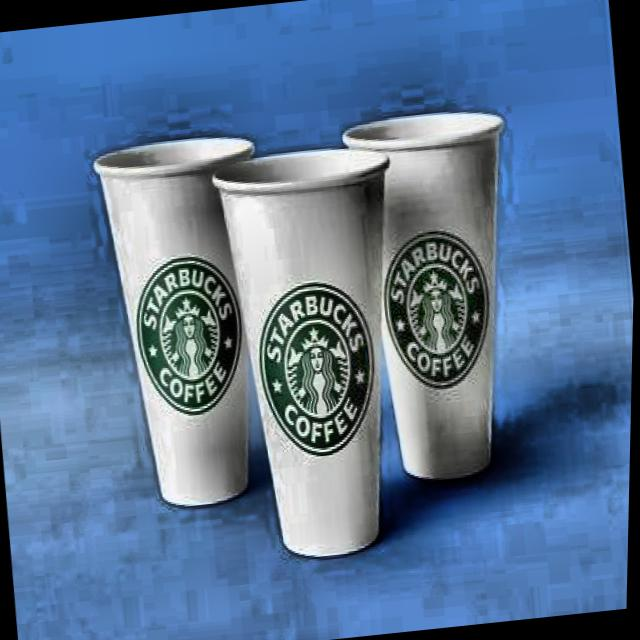Cup: (329, 81, 550, 516), (204, 140, 413, 574), (83, 127, 295, 532)
